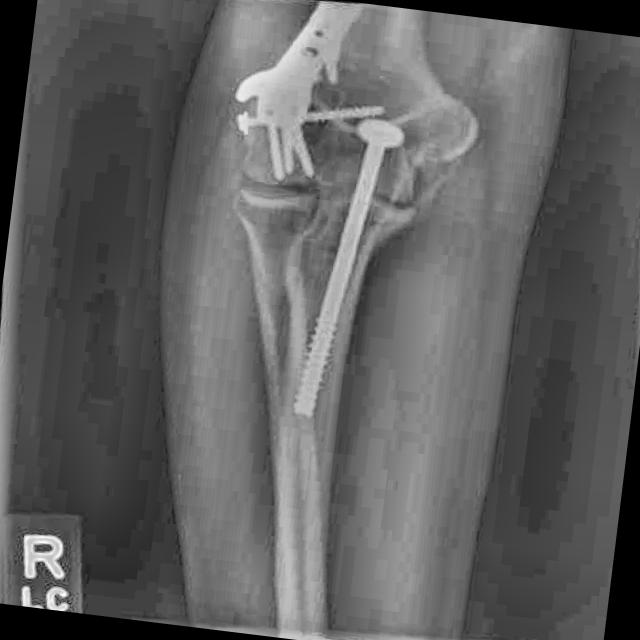elbow positive: (366, 154, 458, 243)
